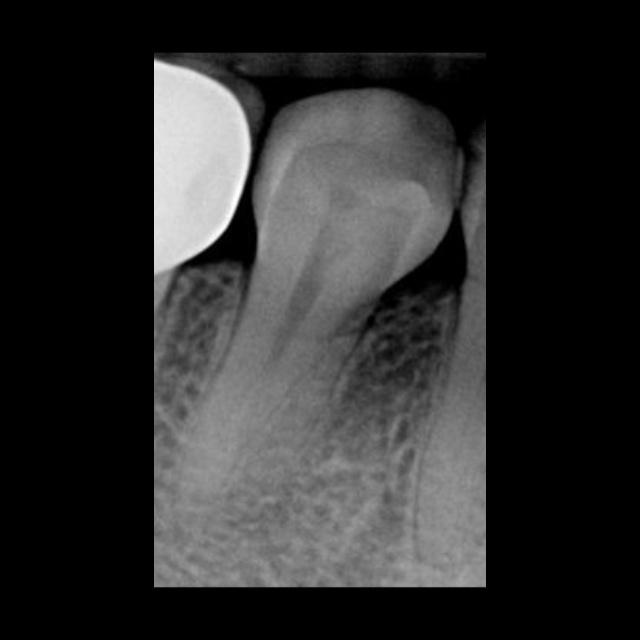tooth: (174, 90, 466, 569)
